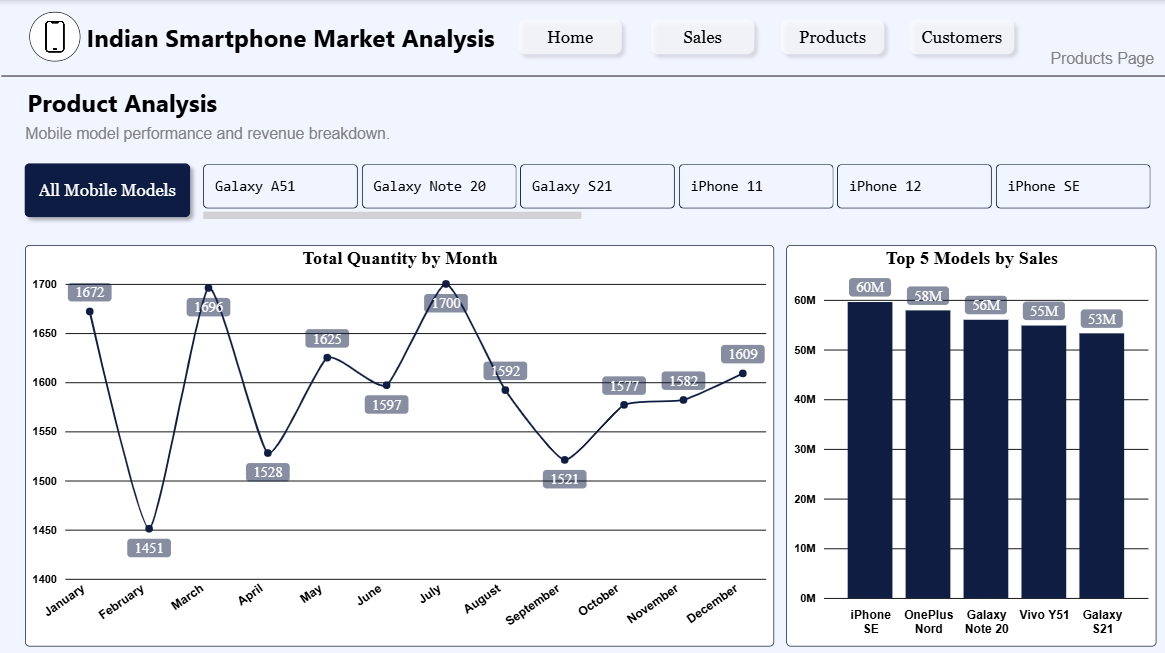

This screenshot's page, from the dashboard's own definition file:
{"tool":"powerbi","page":{"name":"Page 3","canvas":[1280,720],"ordinal":2},"visuals":[{"type":"shape","box":[27,90.8,213.5,42.9],"z":0},{"type":"shape","box":[22.1,133.7,412.3,28.2],"z":1000},{"type":"shape","box":[1.2,74.8,1278.5,16],"z":2000},{"type":"clusteredColumnChart","title":"Top 5 Models by Sales","fields":{"Category":["Mobile_Sales_Data.Mobile Model"],"Y":["Mobile_Sales_Data.Total_Sales"]},"box":[863.8,268.7,406.1,440.5],"z":3000},{"type":"advancedSlicerVisual","fields":{"Values":["Mobile_Sales_Data.Mobile Model"]},"box":[218.4,175.5,1051.5,72.4],"z":4000},{"type":"shape","box":[18.4,170.6,200,77.3],"z":5000},{"type":"lineChart","fields":{"Category":["Mobile_Sales_Data.Date.Variation.Date Hierarchy.Month","Mobile_Sales_Data.Date.Variation.Date Hierarchy.Day"],"Y":["Mobile_Sales_Data.Total Quantity"]},"box":[27,268.7,822.1,440.5],"z":6000},{"type":"shape","box":[1149.7,50.3,120.2,28.2],"z":7000},{"type":"shape","box":[93.3,15.1,451.5,50.8],"z":8000},{"type":"actionButton","box":[560.2,12.3,131.7,56.3],"z":9000},{"type":"actionButton","box":[705.7,12.3,131.7,56.3],"z":10000},{"type":"actionButton","box":[848.4,12.3,131.7,56.3],"z":11000},{"type":"actionButton","box":[989.7,12.3,133.1,56.3],"z":12000},{"type":"image","box":[27.4,8.2,65.9,64.5],"z":13000}]}

Visuals, with their boxes in screenshot pixels (x1, y1, x2, y2), scaled from the page's 1280x720 canvas onto the 1165x653 screenshot:
shape: 25,82,219,121
shape: 20,121,395,147
shape: 1,68,1164,82
"Top 5 Models by Sales" clusteredColumnChart: 786,244,1156,643
advancedSlicerVisual - Mobile_Sales_Data.Mobile Model: 199,159,1156,225
shape: 17,155,199,225
lineChart - Mobile_Sales_Data.Date.Variation.Date Hierarchy.Month x Mobile_Sales_Data.Date.Variation.Date Hierarchy.Day: 25,244,773,643
shape: 1046,46,1156,71
shape: 85,14,496,60
actionButton: 510,11,630,62
actionButton: 642,11,762,62
actionButton: 772,11,892,62
actionButton: 901,11,1022,62
image: 25,7,85,66
